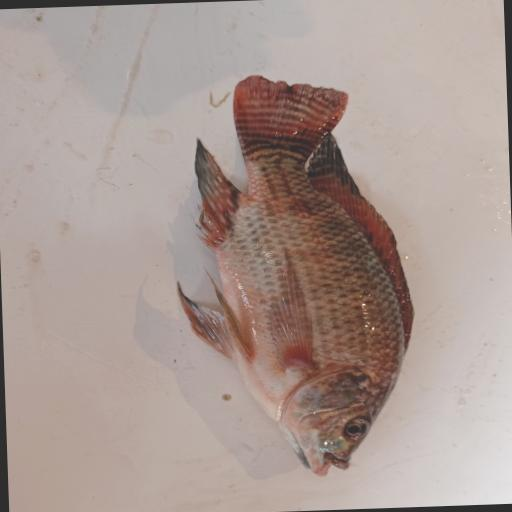Tilapia: (170, 69, 420, 481)
